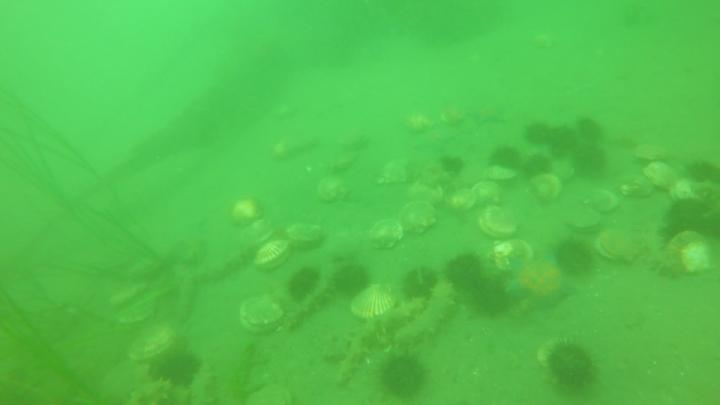echinus: (373, 348, 429, 403), (463, 269, 516, 322), (143, 345, 204, 391), (547, 341, 595, 394), (548, 234, 598, 280), (664, 197, 713, 241), (442, 250, 486, 293), (329, 262, 372, 302), (283, 265, 323, 306), (572, 142, 610, 179), (545, 123, 582, 157), (402, 265, 439, 299), (524, 119, 558, 152), (680, 157, 720, 185), (487, 140, 522, 170), (571, 114, 605, 142), (521, 150, 551, 178)
holothurian: (396, 278, 457, 345), (334, 320, 380, 388), (283, 280, 337, 335), (195, 242, 259, 288), (168, 268, 198, 325), (120, 377, 176, 405)
scallop: (663, 227, 718, 281), (123, 325, 180, 366), (391, 198, 442, 243), (597, 227, 650, 266), (238, 291, 286, 333), (491, 237, 537, 279), (253, 234, 298, 276), (478, 202, 522, 244), (226, 193, 271, 234), (351, 283, 398, 321), (362, 219, 404, 255), (111, 304, 161, 332), (285, 222, 329, 253), (529, 173, 566, 208), (314, 174, 353, 206), (583, 186, 623, 216), (672, 174, 711, 204), (646, 162, 682, 194), (536, 334, 566, 370), (448, 186, 482, 217), (377, 157, 411, 188), (632, 141, 673, 162), (471, 180, 504, 206), (404, 108, 433, 137), (548, 156, 574, 188), (438, 104, 469, 130), (478, 164, 517, 182)
starfish: (504, 254, 575, 314)
waterweeds: (1, 85, 176, 281), (2, 269, 117, 405)
